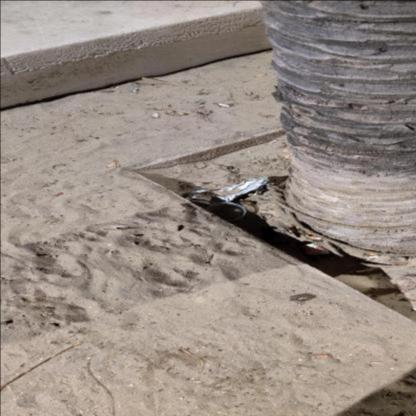Bottle cap: (284, 226, 330, 259)
Cigarette: (218, 103, 231, 107), (310, 236, 322, 240), (107, 163, 116, 168)
Lid: (205, 202, 246, 221)
Plastic bag - wrapper: (186, 177, 272, 205)
Unlabeled litter: (131, 89, 137, 92)
